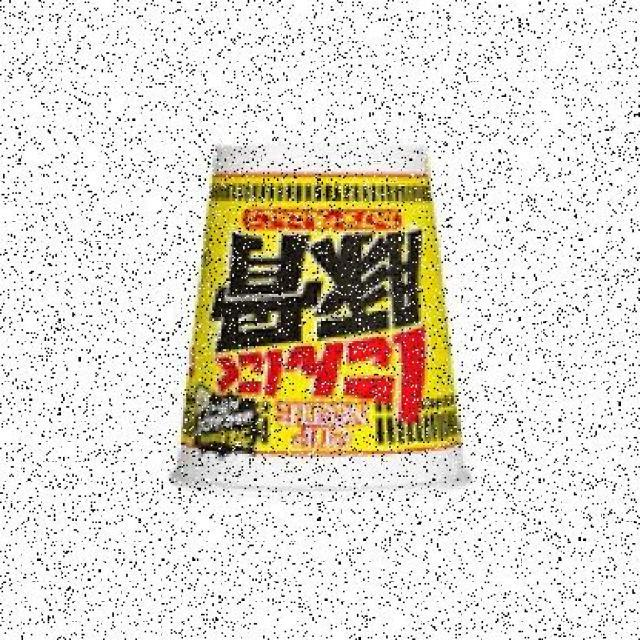Miscellaneous: (147, 122, 482, 504)
